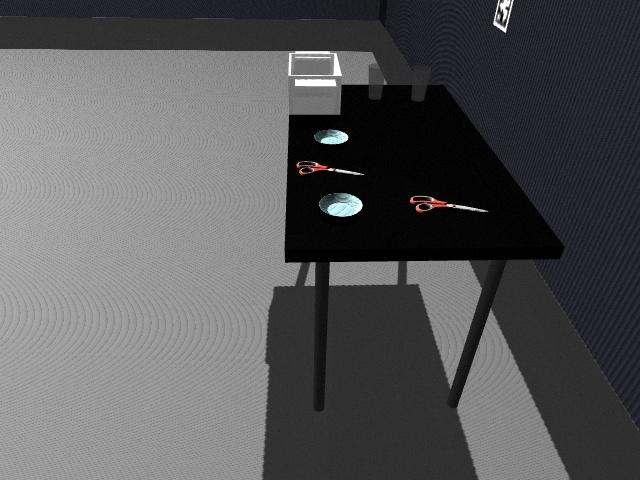cup: (410, 65, 430, 102), (368, 63, 385, 102)
plate: (318, 192, 363, 217), (313, 129, 349, 145)
scissors: (410, 194, 487, 214), (296, 160, 364, 177)
